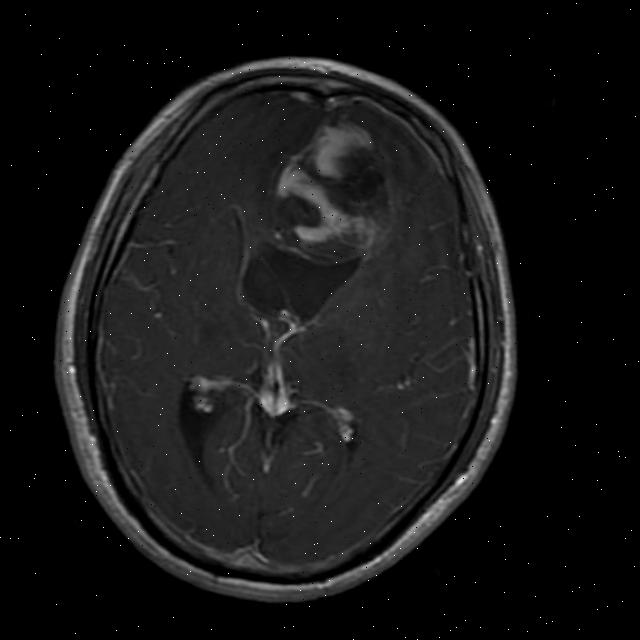Glioma: (263, 108, 409, 254)
